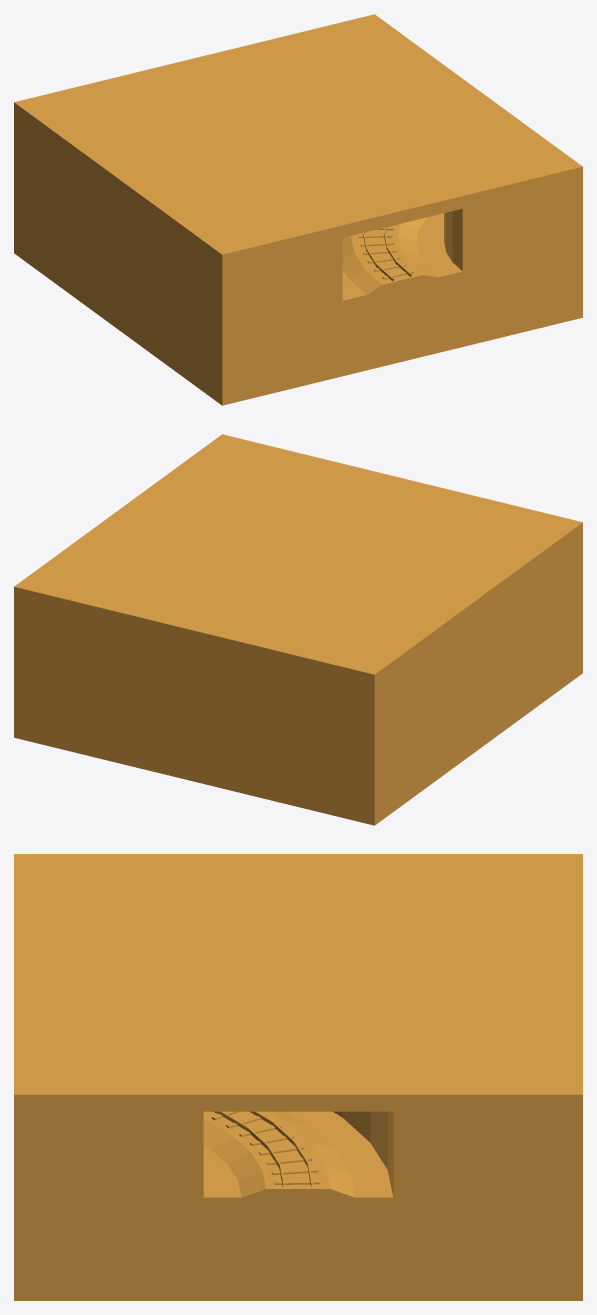
The model's file is tile-rail-tunnel-curve.glb.
3 renders of one model, top to bottom at view 1: azimuth 30°, elevation 25°; view 2: azimuth 150°, elevation 25°; view 3: azimuth 270°, elevation 25°, orthographic. The views are drawn at different scales.
Visible parts, largest first — view 1: tile-rail-tunnel-curve; view 2: tile-rail-tunnel-curve; view 3: tile-rail-tunnel-curve.
Boxes of the visible parts, box(x1,y1,x2,y2) form: tile-rail-tunnel-curve: box(14, 14, 582, 405); tile-rail-tunnel-curve: box(14, 434, 582, 825); tile-rail-tunnel-curve: box(14, 854, 582, 1300).
Size of the model in its own units: 30.01 by 12 by 30.
